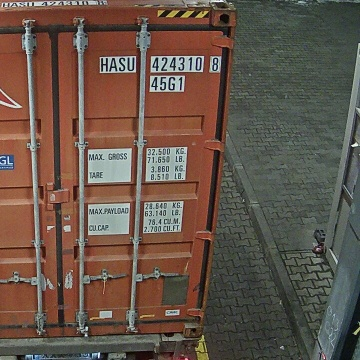serial_id: (101, 57, 219, 71)
